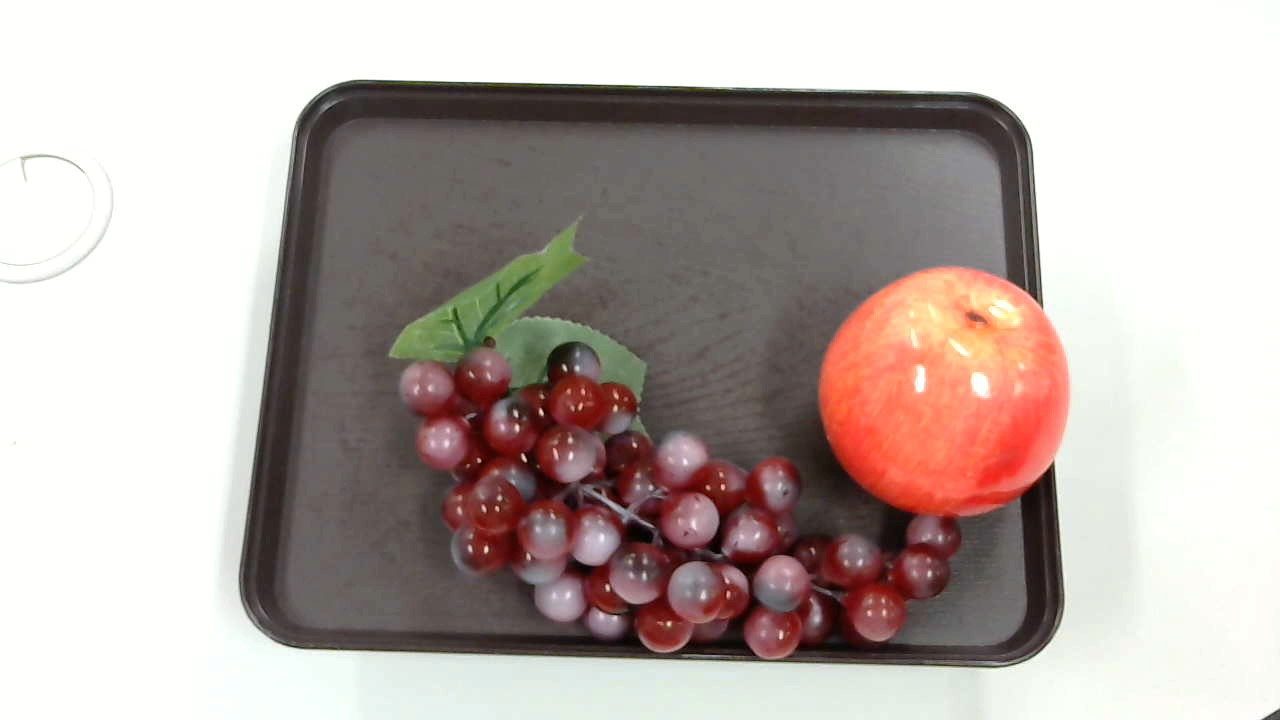grape: (400, 219, 974, 663)
red apple: (817, 266, 1073, 520)
